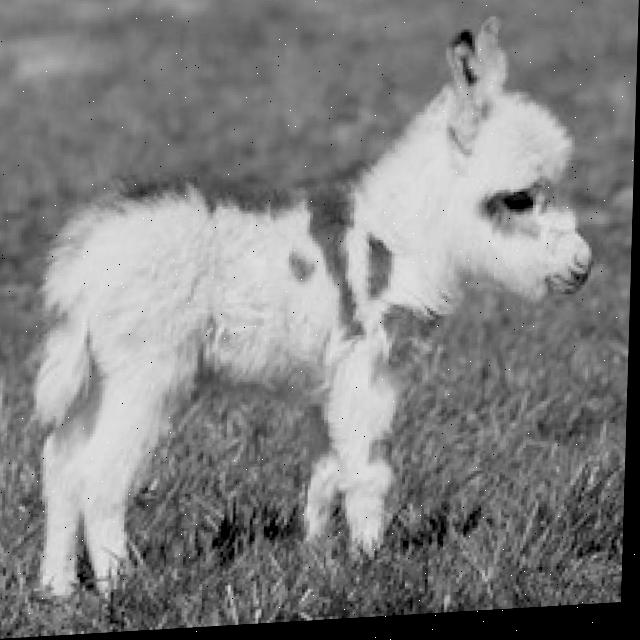Donkey: (25, 7, 602, 606)
